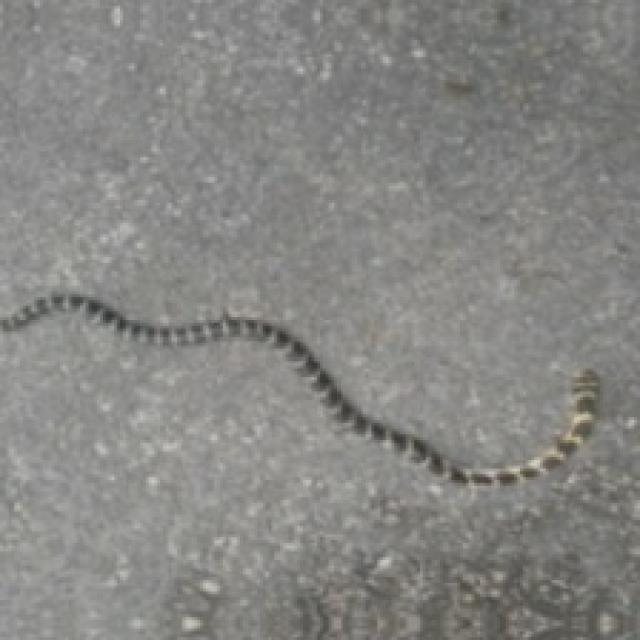king cobra: (0, 294, 597, 483)
